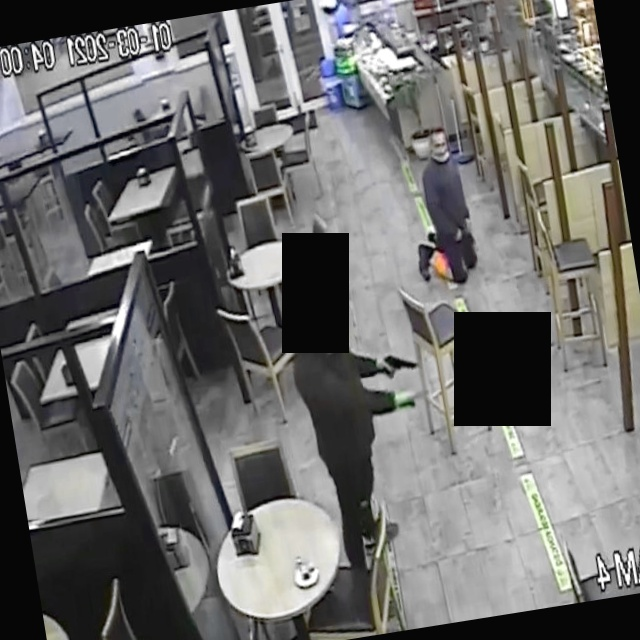gun: (372, 334, 426, 390)
